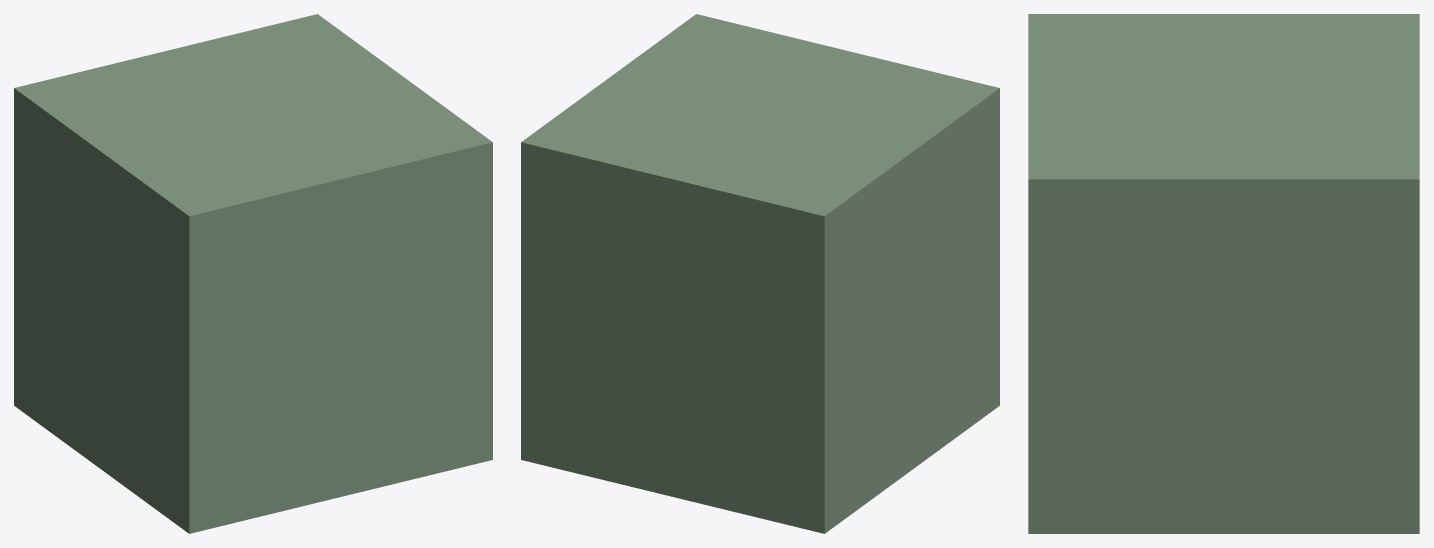
The model's file is Climb_Full.glb.
3 views of the same model, side by side, from view 1: azimuth 30°, elevation 25°; view 2: azimuth 150°, elevation 25°; view 3: azimuth 270°, elevation 25° (orthographic). The views are drawn at different scales.
Visible parts, largest first — view 1: Climb_Full_body; view 2: Climb_Full_body; view 3: Climb_Full_body.
Part boxes in pixels (left/top/right/bottom): Climb_Full_body: left=14, top=14, right=492, bottom=533; Climb_Full_body: left=521, top=14, right=999, bottom=533; Climb_Full_body: left=1028, top=14, right=1419, bottom=533.
Bounding box in the file's own units: 1 × 1 × 1.
